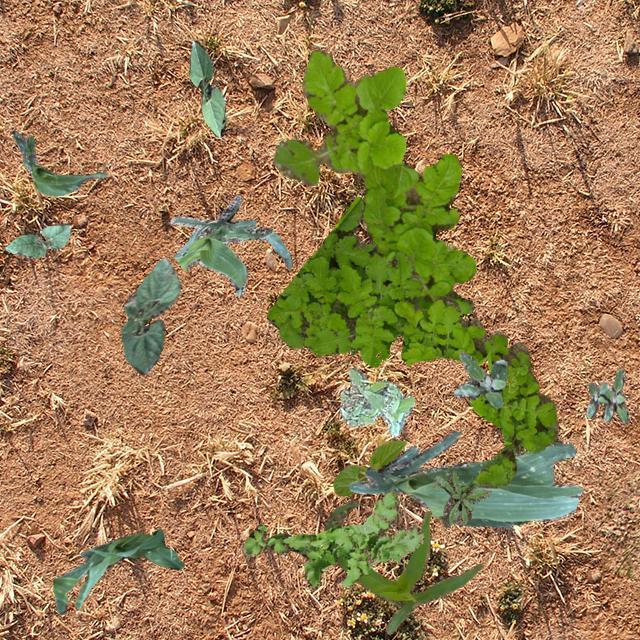crop: (348, 430, 582, 528), (324, 498, 482, 634), (169, 194, 291, 296), (52, 528, 182, 614), (120, 256, 180, 374), (10, 130, 106, 196), (332, 440, 406, 494), (188, 40, 226, 136), (4, 222, 70, 258)
weed: (266, 196, 558, 487), (272, 49, 474, 312), (240, 491, 422, 586), (338, 366, 414, 436), (434, 469, 488, 526), (452, 352, 506, 406), (584, 368, 628, 422)
